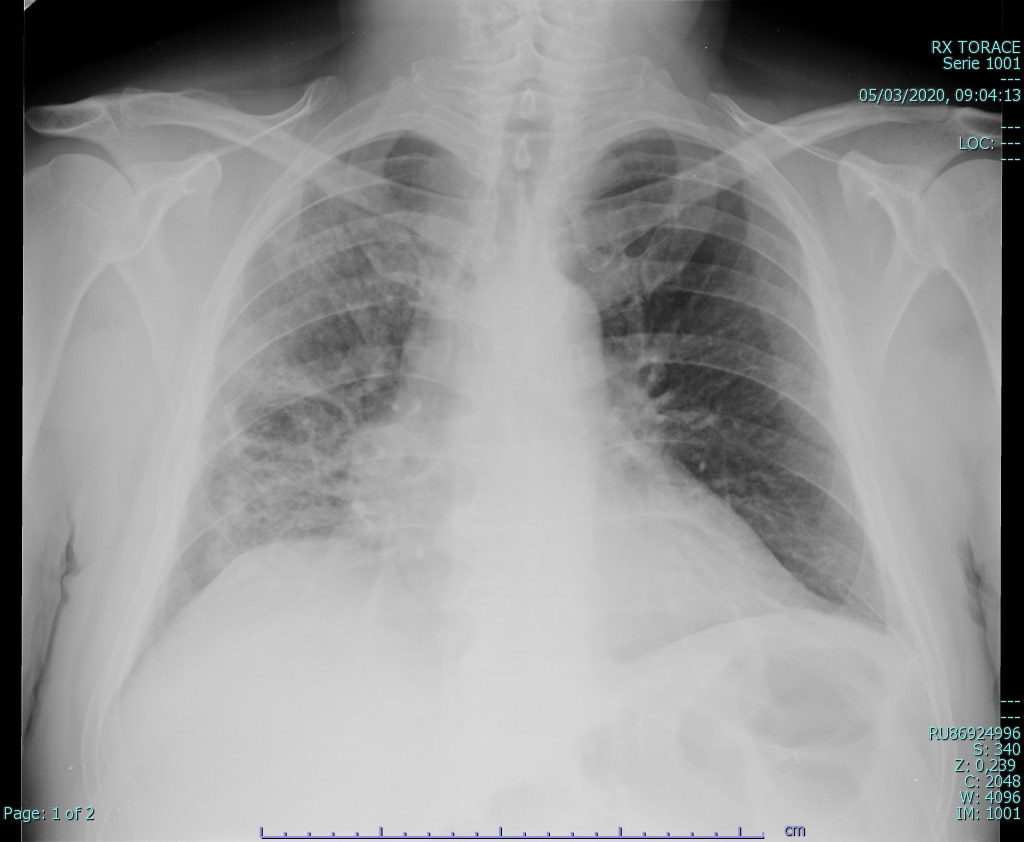Mildw: (564, 131, 861, 603), (203, 133, 464, 597)
